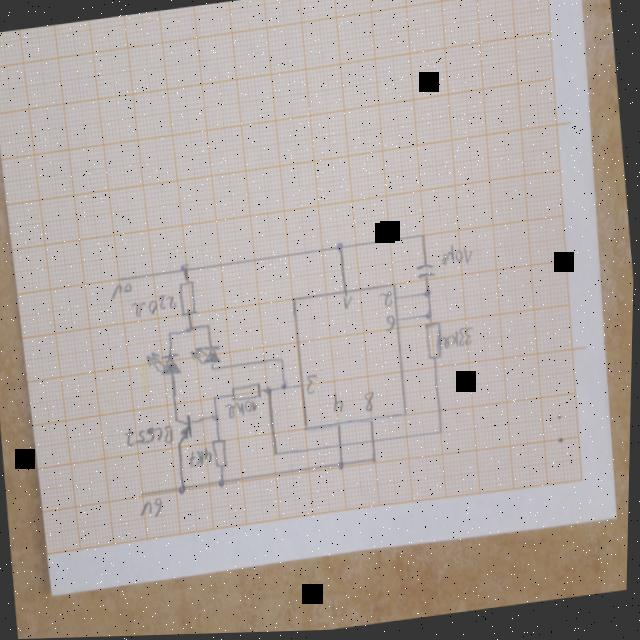capacitor: (416, 265, 438, 285)
crossover: (369, 438, 381, 450), (338, 443, 347, 454)
diode: (146, 348, 185, 382), (190, 344, 224, 371)
junction: (178, 264, 194, 279), (335, 243, 348, 256), (423, 290, 434, 303), (179, 484, 189, 498), (219, 480, 231, 491), (212, 413, 223, 424), (425, 312, 435, 324), (371, 457, 381, 468), (266, 388, 276, 399), (275, 451, 285, 462), (438, 429, 447, 441), (282, 384, 291, 396), (339, 461, 348, 473), (187, 325, 196, 337), (421, 233, 428, 244), (168, 331, 176, 340), (280, 358, 288, 367), (207, 323, 214, 333), (213, 396, 220, 405), (212, 368, 219, 373)
resistor: (178, 281, 201, 321), (425, 324, 447, 364), (213, 438, 233, 473), (232, 383, 265, 404)
terminal: (118, 275, 129, 284), (141, 491, 148, 501)
text: (126, 423, 178, 451), (133, 295, 179, 320), (441, 246, 476, 272), (442, 330, 477, 354), (227, 400, 261, 422), (189, 448, 216, 471), (141, 498, 167, 521), (111, 283, 135, 302), (365, 391, 381, 416), (379, 292, 396, 313), (333, 394, 347, 417), (306, 376, 321, 397), (386, 316, 398, 336), (344, 298, 356, 313)
transistor: (176, 415, 196, 449)
